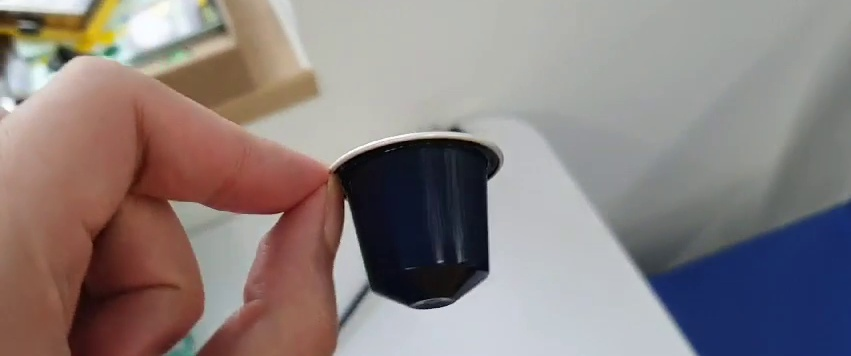capsule_1: (326, 131, 507, 313)
